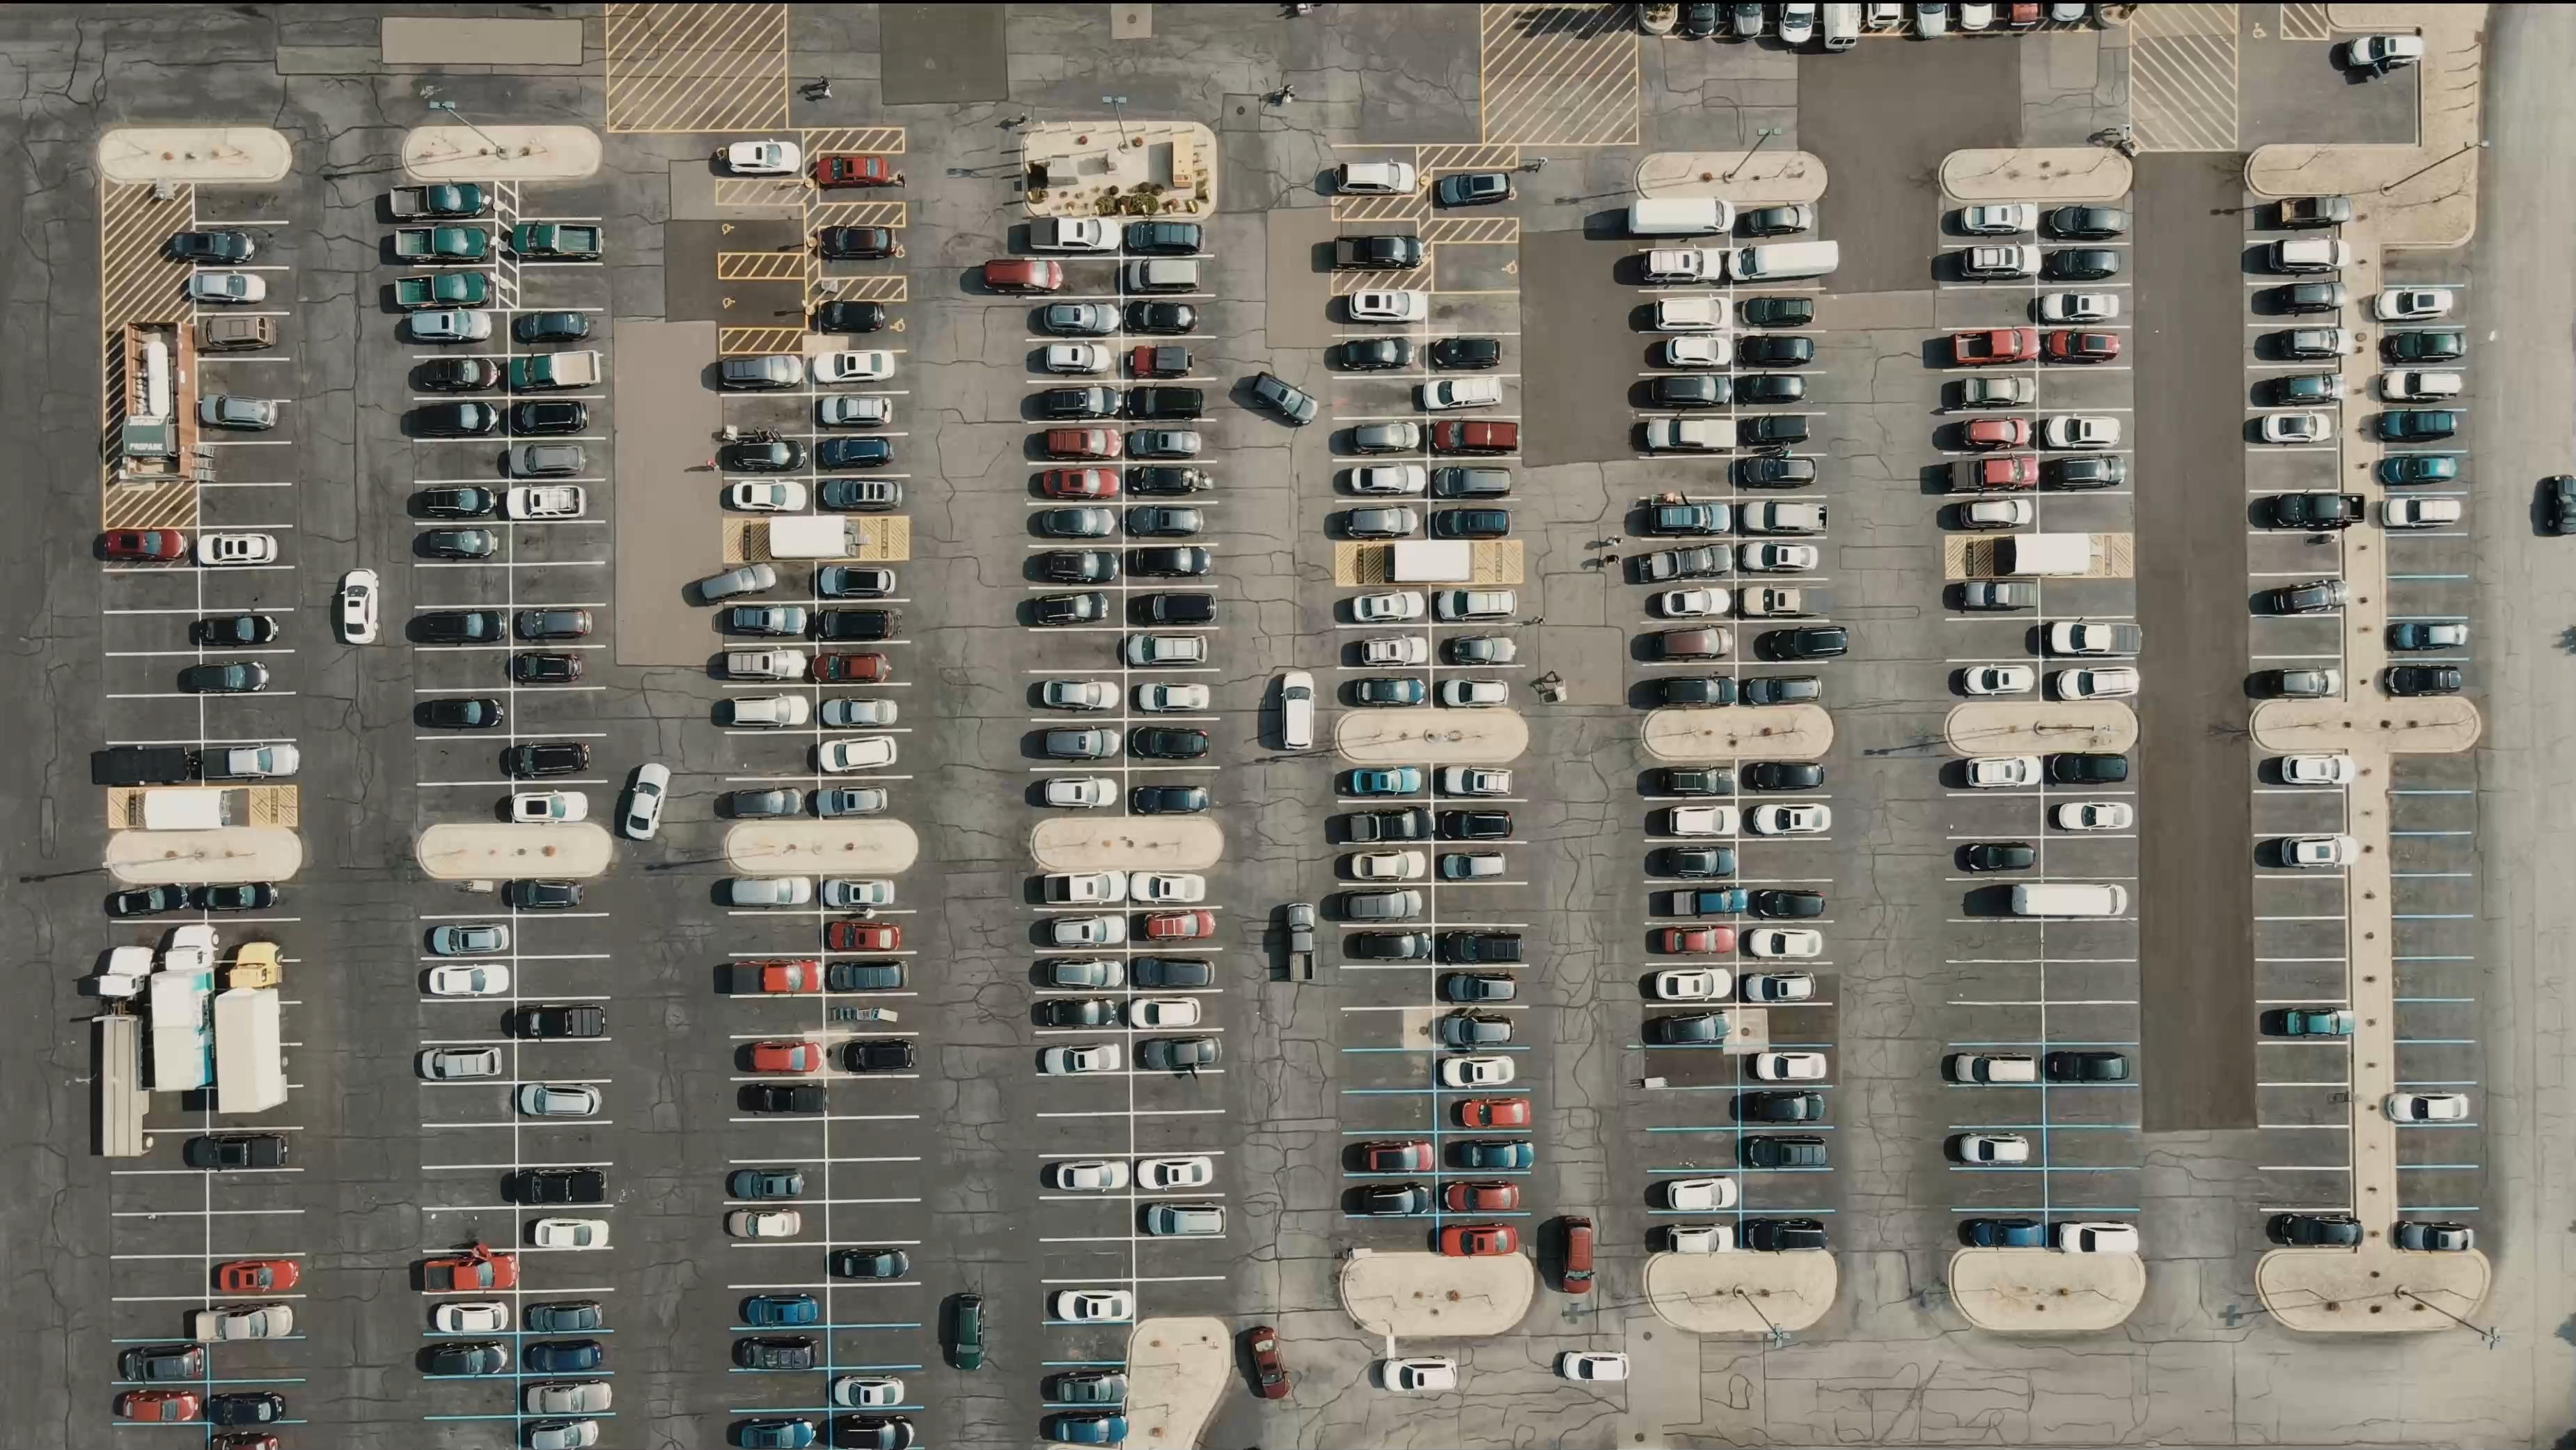occupied: (1031, 719, 1125, 774), (1125, 667, 1219, 721), (517, 1204, 612, 1252), (1734, 444, 1822, 496), (826, 1030, 920, 1078), (1640, 538, 1734, 586), (729, 1202, 826, 1248), (1424, 453, 1522, 499), (1125, 721, 1223, 767), (416, 958, 517, 1002), (816, 152, 902, 204), (104, 1128, 209, 1170), (1433, 166, 1516, 220), (518, 1374, 614, 1420), (1642, 621, 1734, 669), (1127, 767, 1219, 814), (814, 774, 913, 818), (1435, 1006, 1529, 1052), (821, 683, 911, 731), (1640, 241, 1730, 289), (1941, 241, 2038, 285), (416, 915, 517, 958), (416, 354, 508, 400), (2245, 280, 2337, 326), (1127, 586, 1219, 632), (1341, 880, 1433, 926), (416, 605, 511, 650), (1638, 328, 1734, 372), (1031, 774, 1127, 818), (823, 301, 908, 351), (508, 356, 607, 398), (1332, 147, 1417, 197), (1433, 1092, 1532, 1135), (1734, 880, 1833, 922), (209, 1381, 311, 1422), (1028, 294, 1118, 340), (511, 735, 605, 779), (817, 639, 911, 683), (817, 731, 911, 775), (732, 1075, 826, 1119), (1134, 1195, 1228, 1239), (1739, 961, 1833, 1006), (2042, 790, 2135, 834), (1948, 834, 2042, 878), (1334, 223, 1421, 271), (510, 397, 607, 439), (510, 480, 607, 522), (421, 1292, 518, 1335), (421, 1331, 518, 1374), (191, 312, 292, 352), (403, 262, 495, 306), (734, 1034, 826, 1078), (1431, 623, 1523, 667), (1028, 340, 1120, 384), (1030, 586, 1122, 630), (1033, 675, 1125, 719), (1431, 800, 1523, 845), (1645, 1006, 1737, 1050), (1030, 421, 1122, 466), (1946, 413, 2038, 457), (195, 223, 290, 266), (1334, 457, 1430, 499), (203, 737, 299, 779), (110, 882, 205, 924), (1033, 949, 1129, 991), (1132, 1156, 1228, 1199), (1341, 1131, 1437, 1174), (2038, 450, 2134, 492), (1044, 1282, 1134, 1326), (2259, 997, 2350, 1041), (511, 437, 605, 480), (418, 692, 511, 735), (830, 1408, 924, 1450), (1341, 664, 1435, 706), (1734, 798, 1828, 841), (209, 1300, 306, 1340), (732, 1287, 830, 1328), (732, 1409, 830, 1450), (1033, 908, 1131, 949), (1431, 924, 1529, 965), (2047, 1211, 2144, 1252), (1730, 243, 1819, 287), (1338, 290, 1426, 335), (1737, 616, 1826, 660), (1341, 841, 1430, 885), (1651, 1207, 1739, 1252), (1946, 368, 2035, 413), (402, 221, 494, 264), (1123, 544, 1215, 586), (828, 1367, 920, 1409), (2245, 237, 2337, 280), (1946, 202, 2038, 244), (1730, 329, 1822, 372), (1435, 963, 1527, 1006), (1343, 1174, 1435, 1216), (1030, 379, 1122, 421), (193, 269, 288, 310), (821, 227, 902, 274), (814, 389, 909, 430), (1028, 503, 1123, 544), (211, 1255, 306, 1296), (421, 1252, 517, 1292), (518, 1335, 614, 1376), (2243, 404, 2339, 444), (1638, 372, 1734, 413), (1433, 1052, 1529, 1092), (1739, 1089, 1835, 1130), (1024, 218, 1120, 258), (729, 1328, 828, 1367), (510, 876, 609, 915), (2035, 324, 2134, 363), (117, 1381, 207, 1423), (1647, 756, 1737, 798), (209, 1128, 303, 1168), (517, 1080, 610, 1121), (1035, 991, 1129, 1032), (1730, 289, 1824, 329), (1734, 496, 1828, 536), (1028, 545, 1122, 586), (1649, 1172, 1743, 1213), (1645, 965, 1739, 1006), (2038, 413, 2132, 453), (2040, 618, 2134, 659), (2040, 659, 2134, 699), (1946, 659, 2040, 699), (1953, 1211, 2047, 1252), (1640, 414, 1737, 453), (1948, 878, 2045, 917), (724, 474, 812, 517), (1734, 370, 1822, 413), (1341, 625, 1430, 667), (1122, 338, 1210, 381), (1012, 258, 1118, 294), (1953, 752, 2042, 795), (205, 885, 306, 922), (117, 1340, 209, 1381), (1127, 908, 1219, 949), (2038, 244, 2130, 285), (1736, 536, 1828, 577), (1122, 297, 1214, 338), (1642, 800, 1734, 841), (400, 181, 495, 220), (416, 522, 511, 561), (200, 613, 295, 652), (515, 1002, 610, 1041), (2035, 285, 2130, 324), (1437, 1135, 1532, 1174), (2263, 1213, 2358, 1252), (727, 559, 814, 602), (725, 604, 812, 646), (2249, 195, 2335, 237), (1647, 837, 1734, 880), (1737, 409, 1821, 453), (817, 434, 908, 474), (508, 310, 598, 351), (727, 690, 817, 731), (2247, 326, 2337, 366), (1640, 289, 1730, 329), (1343, 761, 1433, 802), (1737, 758, 1828, 798), (202, 652, 295, 690), (732, 1163, 826, 1202), (1129, 991, 1223, 1030), (1129, 953, 1223, 991), (826, 956, 920, 995), (2038, 200, 2132, 239), (1424, 377, 1518, 416), (1334, 497, 1428, 536), (1739, 922, 1833, 961), (1944, 457, 2038, 496), (823, 993, 920, 1030), (1741, 1048, 1838, 1085), (2247, 492, 2344, 529), (715, 133, 803, 174), (200, 398, 288, 439), (2387, 451, 2468, 496), (513, 648, 605, 687), (828, 1243, 920, 1282), (1341, 926, 1433, 965), (1743, 1130, 1835, 1168), (1647, 926, 1739, 965), (410, 313, 506, 351), (510, 611, 605, 648), (1127, 1030, 1223, 1068), (1039, 1158, 1134, 1195), (1426, 499, 1522, 536), (1644, 202, 1730, 243), (1123, 462, 1210, 503), (1343, 800, 1430, 841), (1046, 1406, 1125, 1450), (720, 356, 810, 395), (727, 646, 817, 685), (520, 1167, 610, 1206), (725, 781, 816, 820), (1736, 577, 1826, 616), (1430, 667, 1520, 706), (1123, 503, 1214, 542), (1944, 329, 2035, 368), (1944, 494, 2035, 533), (200, 531, 294, 568), (1030, 466, 1123, 503), (2249, 657, 2342, 694), (2385, 366, 2466, 409), (724, 439, 812, 478), (111, 744, 200, 783), (1433, 763, 1522, 802), (1950, 579, 2038, 618), (2258, 837, 2346, 876), (1035, 871, 1127, 908), (2247, 366, 2339, 404), (1426, 416, 1518, 453), (1338, 588, 1430, 625), (1438, 1176, 1530, 1213), (1645, 883, 1737, 921), (2047, 1048, 2139, 1085), (823, 875, 918, 910), (2387, 409, 2466, 451), (2254, 752, 2350, 788), (1424, 335, 1511, 374), (2387, 660, 2473, 699), (418, 400, 508, 437), (819, 604, 909, 641), (826, 915, 916, 953), (1431, 584, 1522, 621), (1951, 1048, 2042, 1085), (2043, 754, 2134, 791), (106, 531, 200, 567), (1640, 503, 1734, 538), (1640, 586, 1734, 621), (1642, 669, 1736, 705), (1046, 1365, 1127, 1406), (1129, 381, 1210, 421), (1122, 220, 1203, 260), (732, 875, 817, 914), (1737, 660, 1822, 699), (1743, 1213, 1828, 1252), (816, 565, 904, 602), (814, 356, 906, 391), (817, 474, 909, 510), (416, 483, 508, 519), (1035, 1032, 1127, 1068), (1127, 632, 1219, 667), (1435, 1216, 1527, 1252), (2396, 1085, 2479, 1124), (2390, 621, 2473, 660), (2256, 579, 2342, 616), (732, 956, 823, 991), (1433, 845, 1523, 880), (2045, 882, 2135, 917), (1125, 425, 1210, 462), (1122, 257, 1207, 294), (2396, 1213, 2480, 1250), (1127, 873, 1221, 906), (517, 223, 605, 258), (1334, 421, 1426, 455), (2385, 496, 2468, 533), (2387, 289, 2461, 329), (1730, 205, 1813, 241), (1334, 336, 1426, 368), (518, 1420, 616, 1450), (209, 1422, 311, 1450), (2385, 329, 2463, 366)
vacant: (1948, 1000, 2043, 1046), (1946, 963, 2043, 1007), (115, 1211, 207, 1257), (826, 1200, 922, 1245), (1040, 1238, 1134, 1282), (1341, 1050, 1435, 1094), (1638, 455, 1732, 499), (2043, 1000, 2137, 1045), (1131, 1110, 1228, 1153), (2040, 921, 2137, 963), (2043, 1126, 2141, 1168), (1343, 1007, 1435, 1052), (2256, 919, 2348, 963), (732, 1369, 828, 1411), (2042, 837, 2137, 880), (2045, 1087, 2141, 1130), (2045, 1167, 2141, 1209), (1343, 963, 1433, 1007), (1040, 1199, 1134, 1241), (2258, 1124, 2351, 1167), (2258, 1041, 2351, 1084), (1736, 839, 1833, 880), (1437, 243, 1516, 292), (718, 205, 803, 251), (1040, 1114, 1132, 1156), (1132, 1239, 1224, 1282), (1950, 795, 2042, 837), (2254, 876, 2346, 919), (826, 1119, 922, 1160), (722, 393, 812, 436), (1433, 883, 1523, 926), (416, 740, 510, 781), (2245, 448, 2339, 489), (2249, 535, 2342, 575), (1951, 1168, 2045, 1209), (2258, 1084, 2351, 1124), (200, 568, 292, 609), (725, 737, 817, 777), (828, 1285, 920, 1326), (1741, 1170, 1833, 1211), (1950, 922, 2042, 963), (195, 184, 290, 223), (1132, 1073, 1228, 1112), (1737, 1007, 1833, 1046), (425, 1209, 515, 1250), (731, 914, 821, 954), (2250, 618, 2341, 659), (522, 264, 602, 310), (200, 483, 294, 522), (203, 698, 297, 737), (209, 1215, 303, 1253), (1343, 1094, 1437, 1133), (2038, 581, 2135, 618), (515, 690, 603, 731), (1430, 296, 1518, 336), (2263, 1167, 2351, 1207), (198, 359, 290, 398), (106, 613, 198, 652), (110, 701, 202, 740), (423, 1085, 515, 1124), (828, 1326, 920, 1365), (1031, 632, 1123, 671), (1951, 1087, 2043, 1126), (412, 443, 508, 480), (1939, 289, 2035, 326), (2036, 492, 2132, 529), (2390, 834, 2473, 876), (518, 958, 609, 997), (1649, 1089, 1739, 1128), (2040, 372, 2130, 411), (1948, 620, 2038, 659), (414, 567, 508, 604), (513, 524, 607, 561), (113, 1257, 207, 1294), (518, 1126, 612, 1163), (732, 1122, 826, 1160), (2043, 963, 2137, 1000), (2392, 958, 2473, 1000), (203, 444, 292, 483), (518, 179, 607, 218), (1649, 1131, 1737, 1170), (2256, 793, 2344, 832), (515, 565, 607, 602), (104, 572, 196, 609), (106, 655, 198, 692), (209, 1172, 301, 1209), (734, 1246, 826, 1284), (2387, 536, 2470, 577), (2392, 917, 2475, 958), (2394, 1168, 2477, 1209), (2388, 577, 2468, 620), (732, 997, 823, 1034), (416, 652, 510, 687), (416, 786, 510, 821), (518, 1253, 612, 1289), (826, 1161, 920, 1197), (1039, 1076, 1132, 1112), (1134, 1280, 1228, 1315), (722, 283, 803, 324), (2394, 1002, 2475, 1043), (2394, 1043, 2475, 1084), (113, 1174, 205, 1209), (518, 1043, 610, 1078), (426, 1379, 518, 1415), (1345, 1215, 1437, 1250), (2392, 795, 2475, 834), (2394, 1128, 2477, 1167), (1649, 1052, 1736, 1089), (425, 1128, 515, 1163), (425, 1170, 515, 1206), (2392, 878, 2477, 915), (211, 1344, 304, 1377), (517, 921, 610, 954), (826, 1082, 920, 1115), (1334, 379, 1422, 414), (2256, 963, 2348, 997), (2383, 250, 2466, 287), (421, 1004, 511, 1037), (2390, 756, 2472, 793), (423, 880, 508, 914), (428, 1418, 517, 1450), (1046, 1328, 1129, 1361), (113, 1303, 195, 1337), (117, 1423, 209, 1450)
